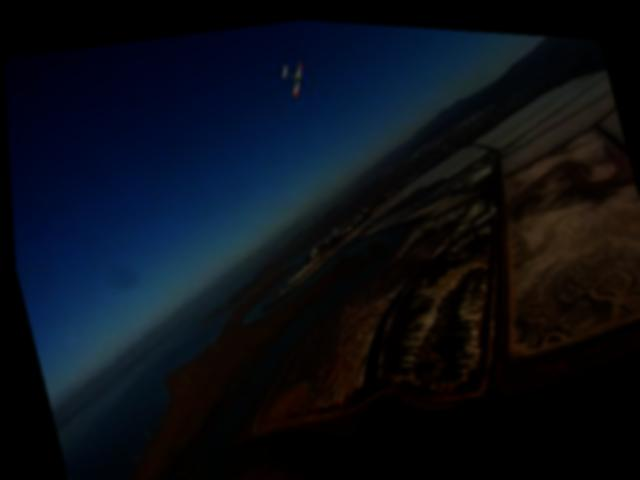uav: (269, 45, 319, 104)
